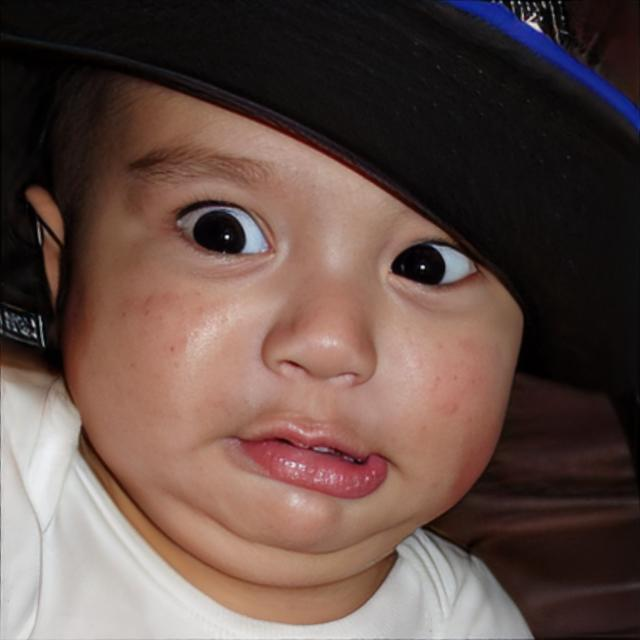fear: (66, 60, 528, 556)
